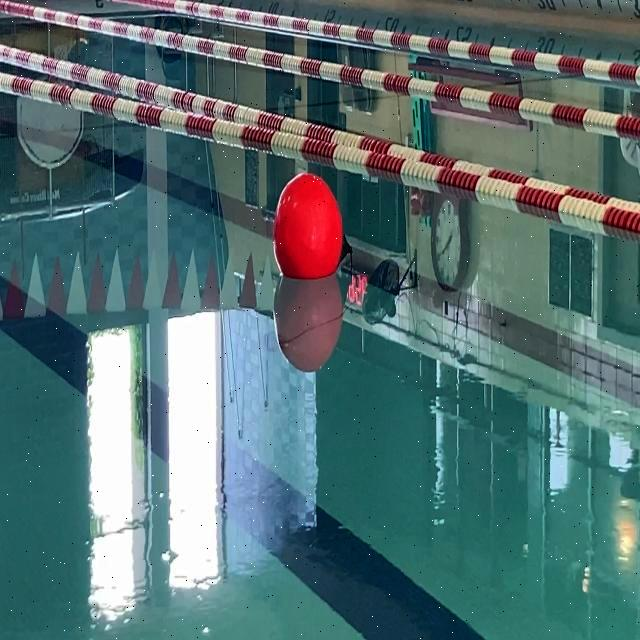buoy: (274, 171, 354, 278)
